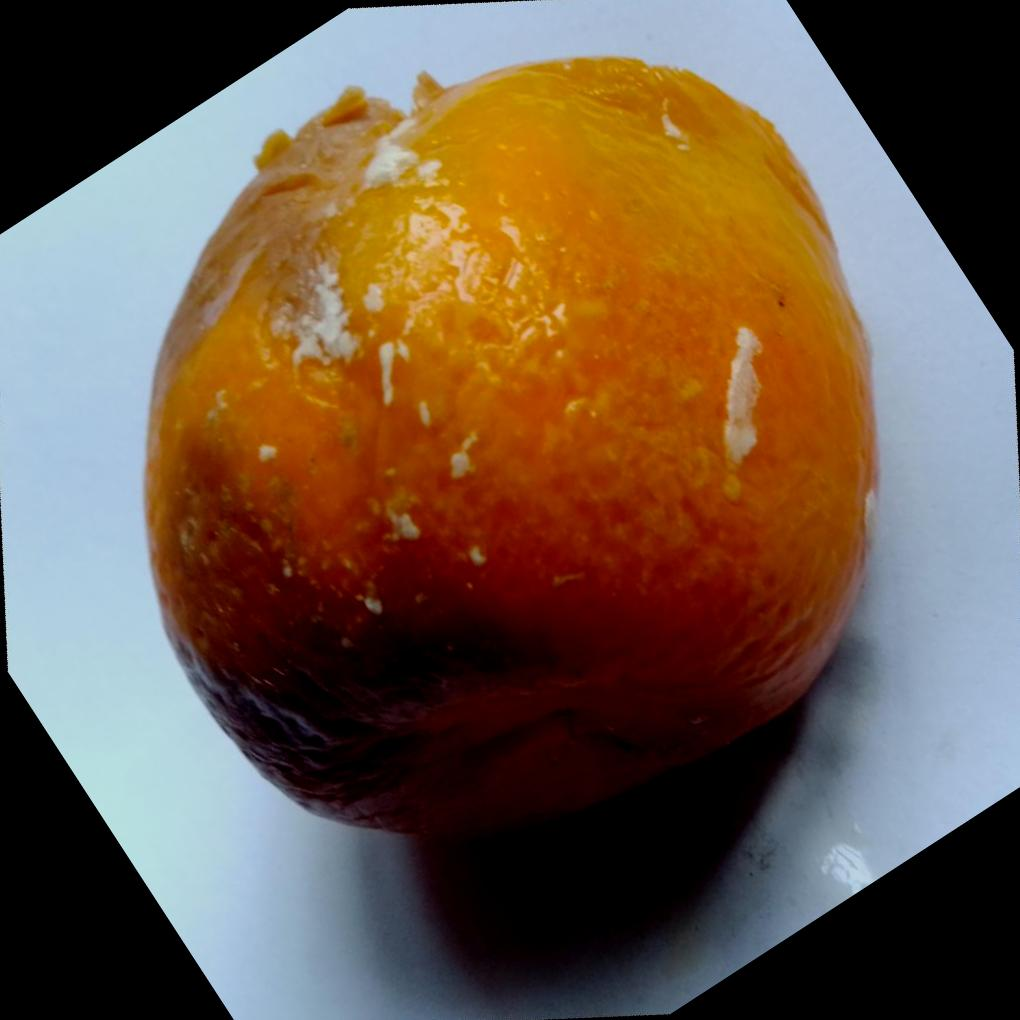FreshOrange: (138, 47, 880, 840)
